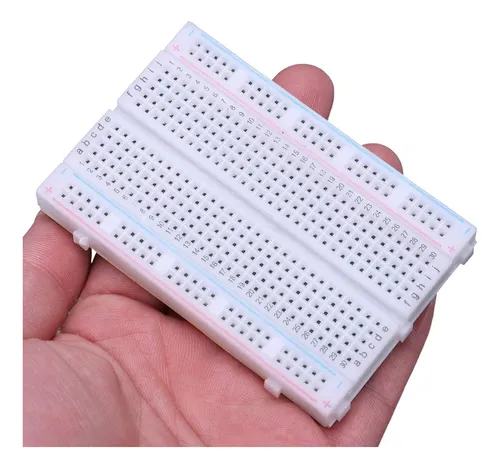Protoboard: (33, 16, 478, 427)
